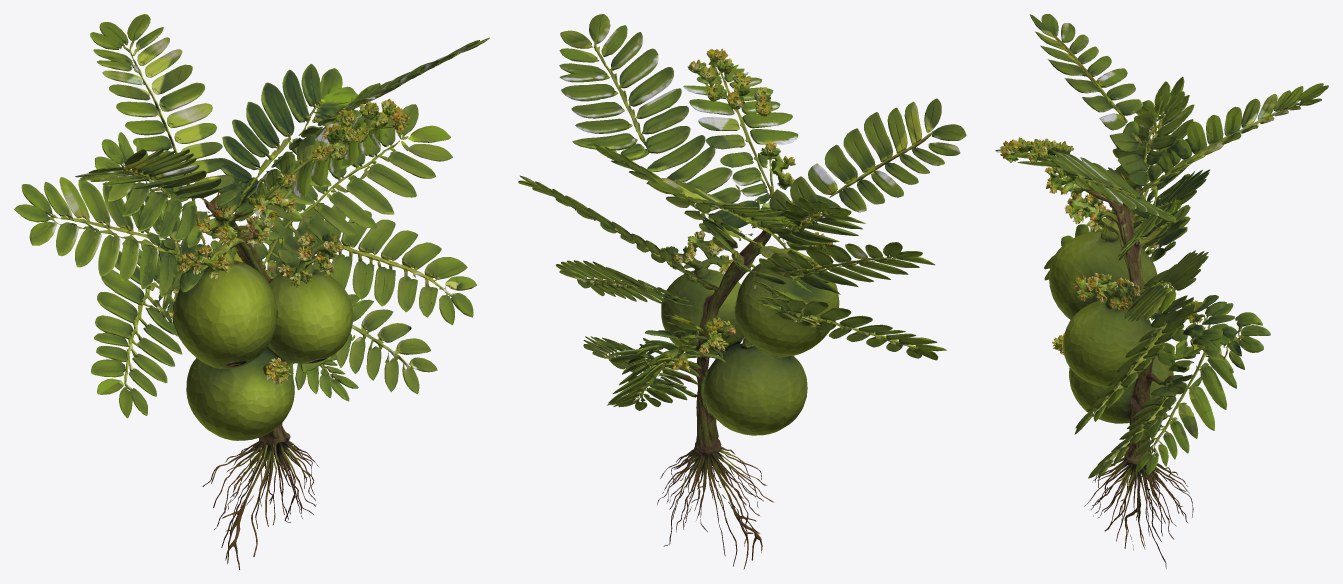
Rendered from amla3d.glb.
The picture shows the model from 3 angles, left to right: view 1: azimuth 30°, elevation 25°; view 2: azimuth 150°, elevation 25°; view 3: azimuth 270°, elevation 25°; orthographic projection. The views are drawn at different scales.
Parts seen in each view (by area): view 1: tmp0rge61a7.obj; view 2: tmp0rge61a7.obj; view 3: tmp0rge61a7.obj.
Boxes of the visible parts, bbox=[...] form: tmp0rge61a7.obj: bbox=[14, 14, 489, 569]; tmp0rge61a7.obj: bbox=[518, 14, 966, 569]; tmp0rge61a7.obj: bbox=[995, 14, 1328, 568].
Bounding box in the file's own units: 1.44 × 1.61 × 1.01.
Materials: 1 (1 with a texture image).
